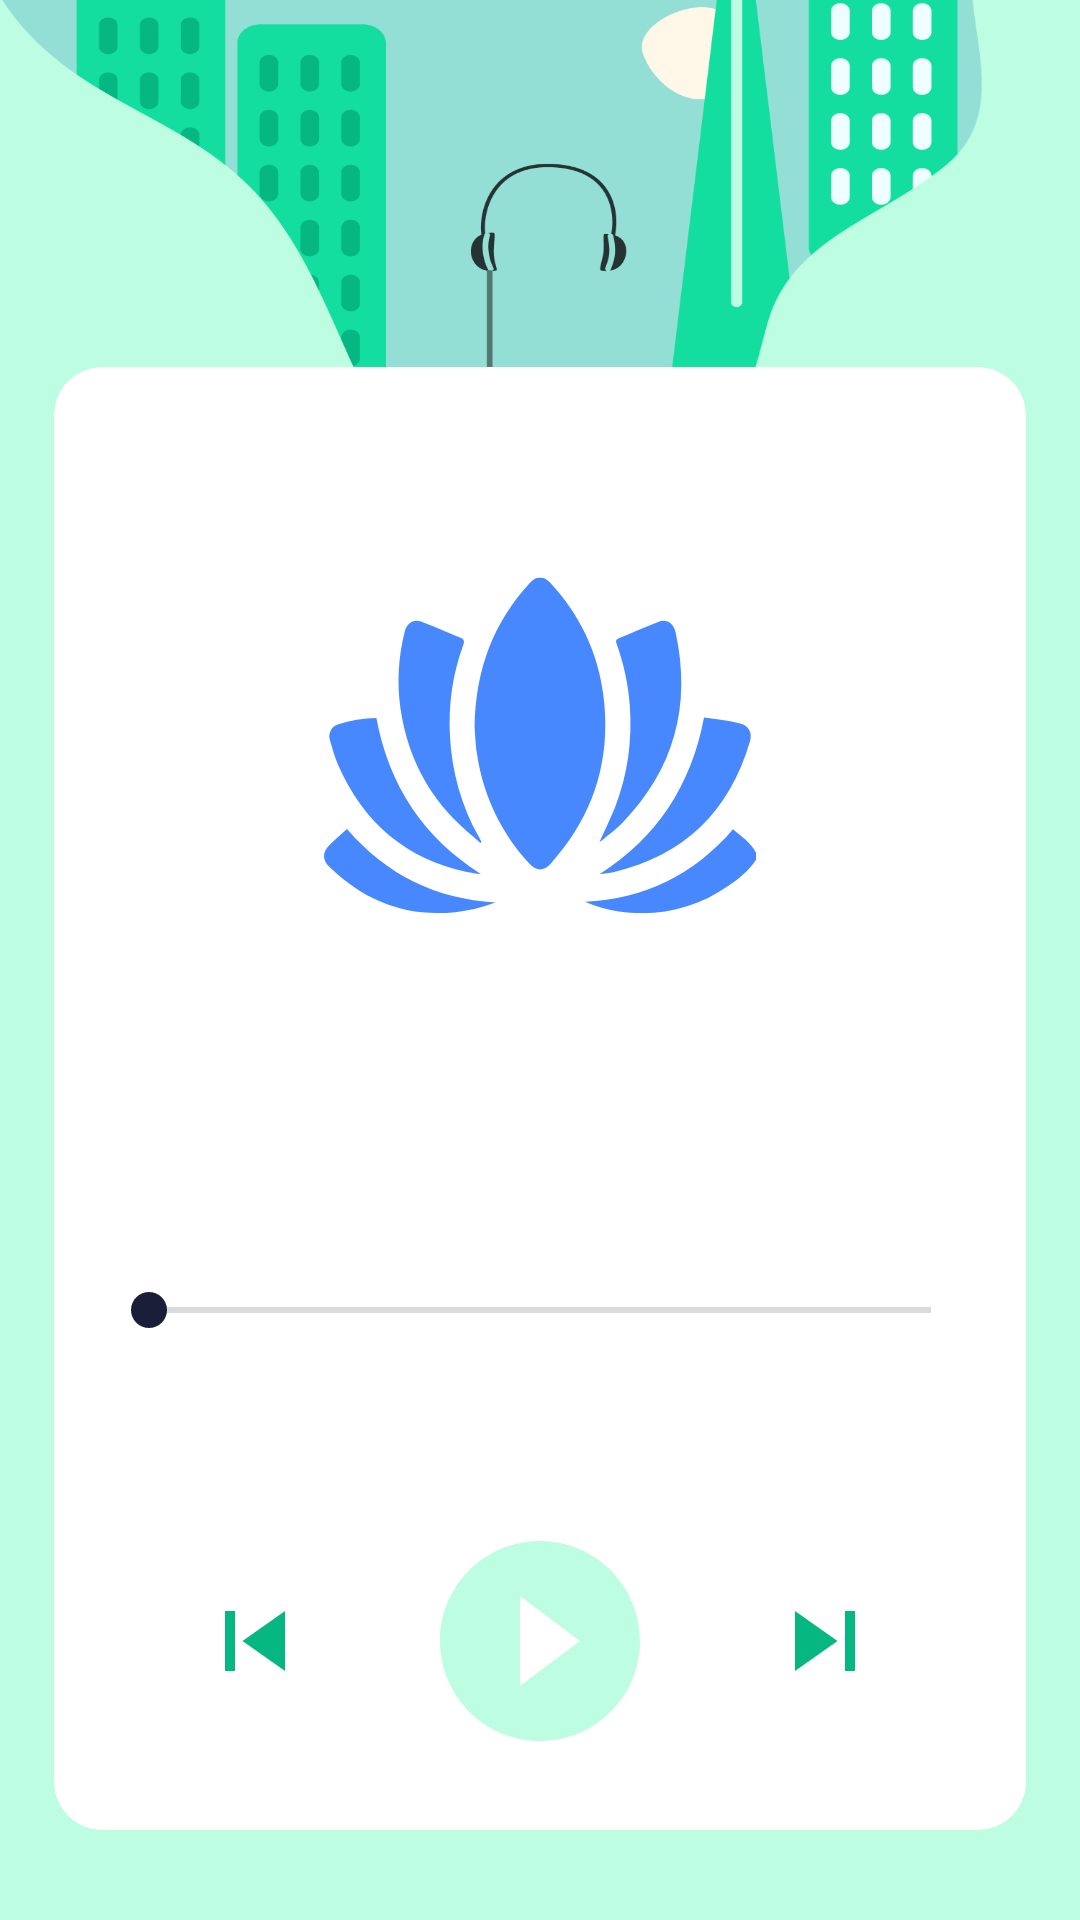

Icons on this 1080px x 1920px Android screen, each with its box as (x1, y1, x2, y2):
play sound: (440, 1541, 640, 1741)
skip next sound: (795, 1611, 855, 1671)
skip previous sound: (225, 1611, 285, 1671)
